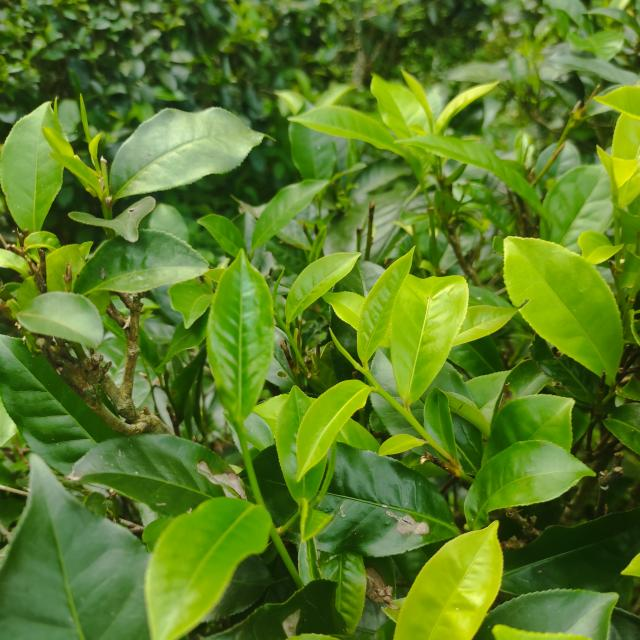unopened_leaf: (320, 322, 371, 375), (73, 84, 100, 161), (266, 262, 290, 306)
